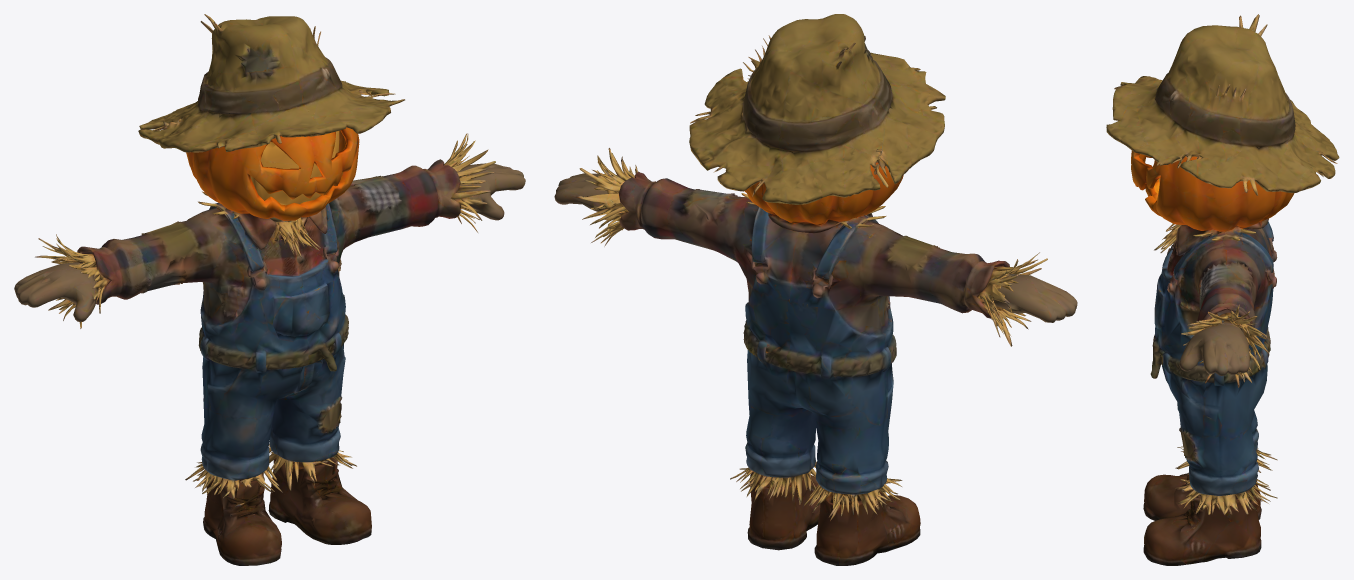
File: a3D-calabaza.glb
3 views of the same model, side by side, from view 1: azimuth 30°, elevation 25°; view 2: azimuth 150°, elevation 25°; view 3: azimuth 270°, elevation 25° (orthographic). The views are drawn at different scales.
Parts seen in each view (by area): view 1: geometry_0; view 2: geometry_0; view 3: geometry_0.
Part boxes in pixels (bbox=[...]): geometry_0: bbox=[14, 14, 525, 565]; geometry_0: bbox=[554, 14, 1077, 565]; geometry_0: bbox=[1106, 14, 1339, 565].
Bounding box in the file's own units: 1.9 × 1.84 × 0.7813.
Materials: 1 (1 with a texture image).
